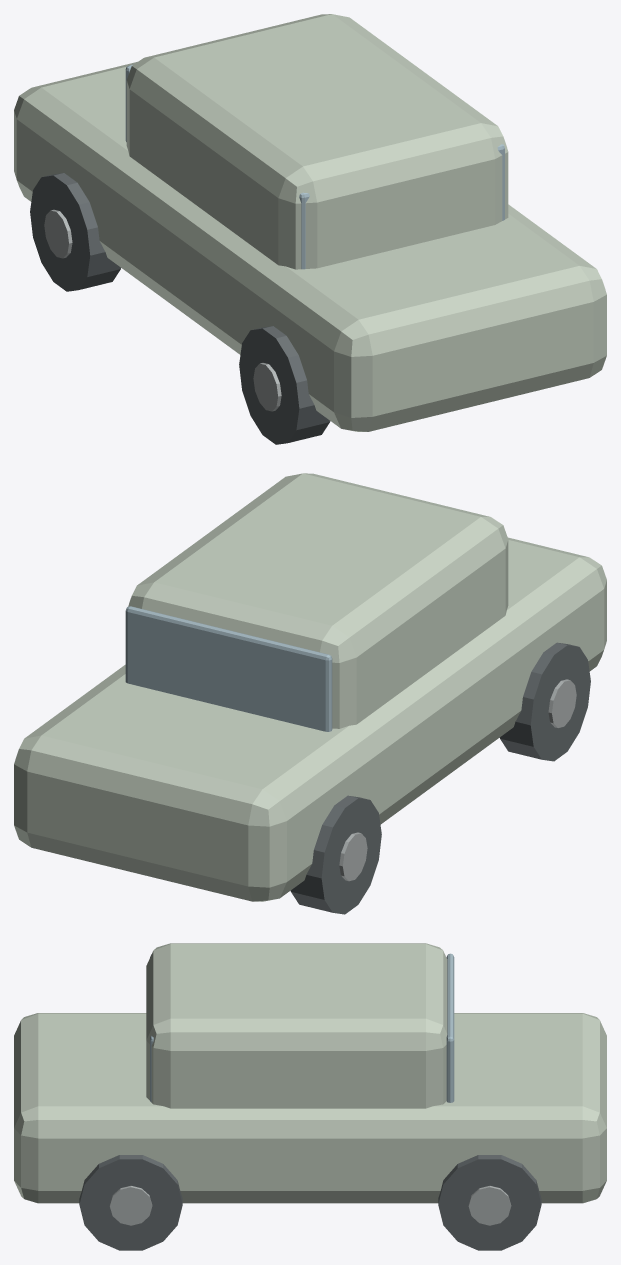
File: parked-sedan.glb
The picture shows the model from 3 angles, top to bottom: view 1: azimuth 30°, elevation 25°; view 2: azimuth 150°, elevation 25°; view 3: azimuth 270°, elevation 25°; orthographic projection. The views are drawn at different scales.
Parts seen in each view (by area): view 1: lower_body, cabin, wheel_-1_0, wheel_-1_1, hub_-1_1, hub_-1_0, front_glass; view 2: lower_body, cabin, rear_glass, wheel_-1_0, wheel_-1_1, hub_-1_1, hub_-1_0; view 3: lower_body, cabin, wheel_1_0, wheel_1_1, hub_1_0, hub_1_1, rear_glass.
Part boxes in pixels (x1,y1,x2,y2): lower_body: (14,61,606,431); cabin: (126,14,508,269); wheel_-1_0: (239,326,330,444); wheel_-1_1: (30,173,120,291); hub_-1_1: (44,209,72,258); hub_-1_0: (253,363,281,411); front_glass: (299,144,504,269); lower_body: (14,537,606,901); cabin: (128,473,508,728); rear_glass: (125,606,332,731); wheel_-1_0: (499,642,590,761); wheel_-1_1: (290,795,381,914); hub_-1_1: (339,832,367,881); hub_-1_0: (548,679,576,727); lower_body: (14,1013,606,1203); cabin: (146,943,447,1108); wheel_1_0: (79,1155,182,1250); wheel_1_1: (438,1155,541,1250); hub_1_0: (109,1186,152,1225); hub_1_1: (468,1186,511,1225); rear_glass: (446,953,454,1102).
Size of the model in its own units: 1.94 by 1.51 by 3.9.
